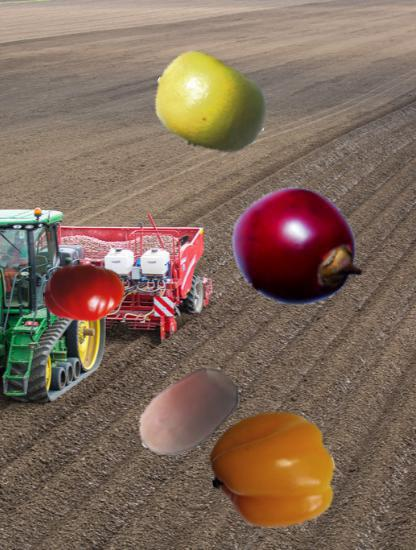Hazelnut: (132, 358, 241, 467)
Pepper: (211, 409, 335, 533)
Pomelo: (152, 47, 269, 164)
Tamarillo: (231, 182, 363, 314)
Tomato: (43, 252, 125, 334)
